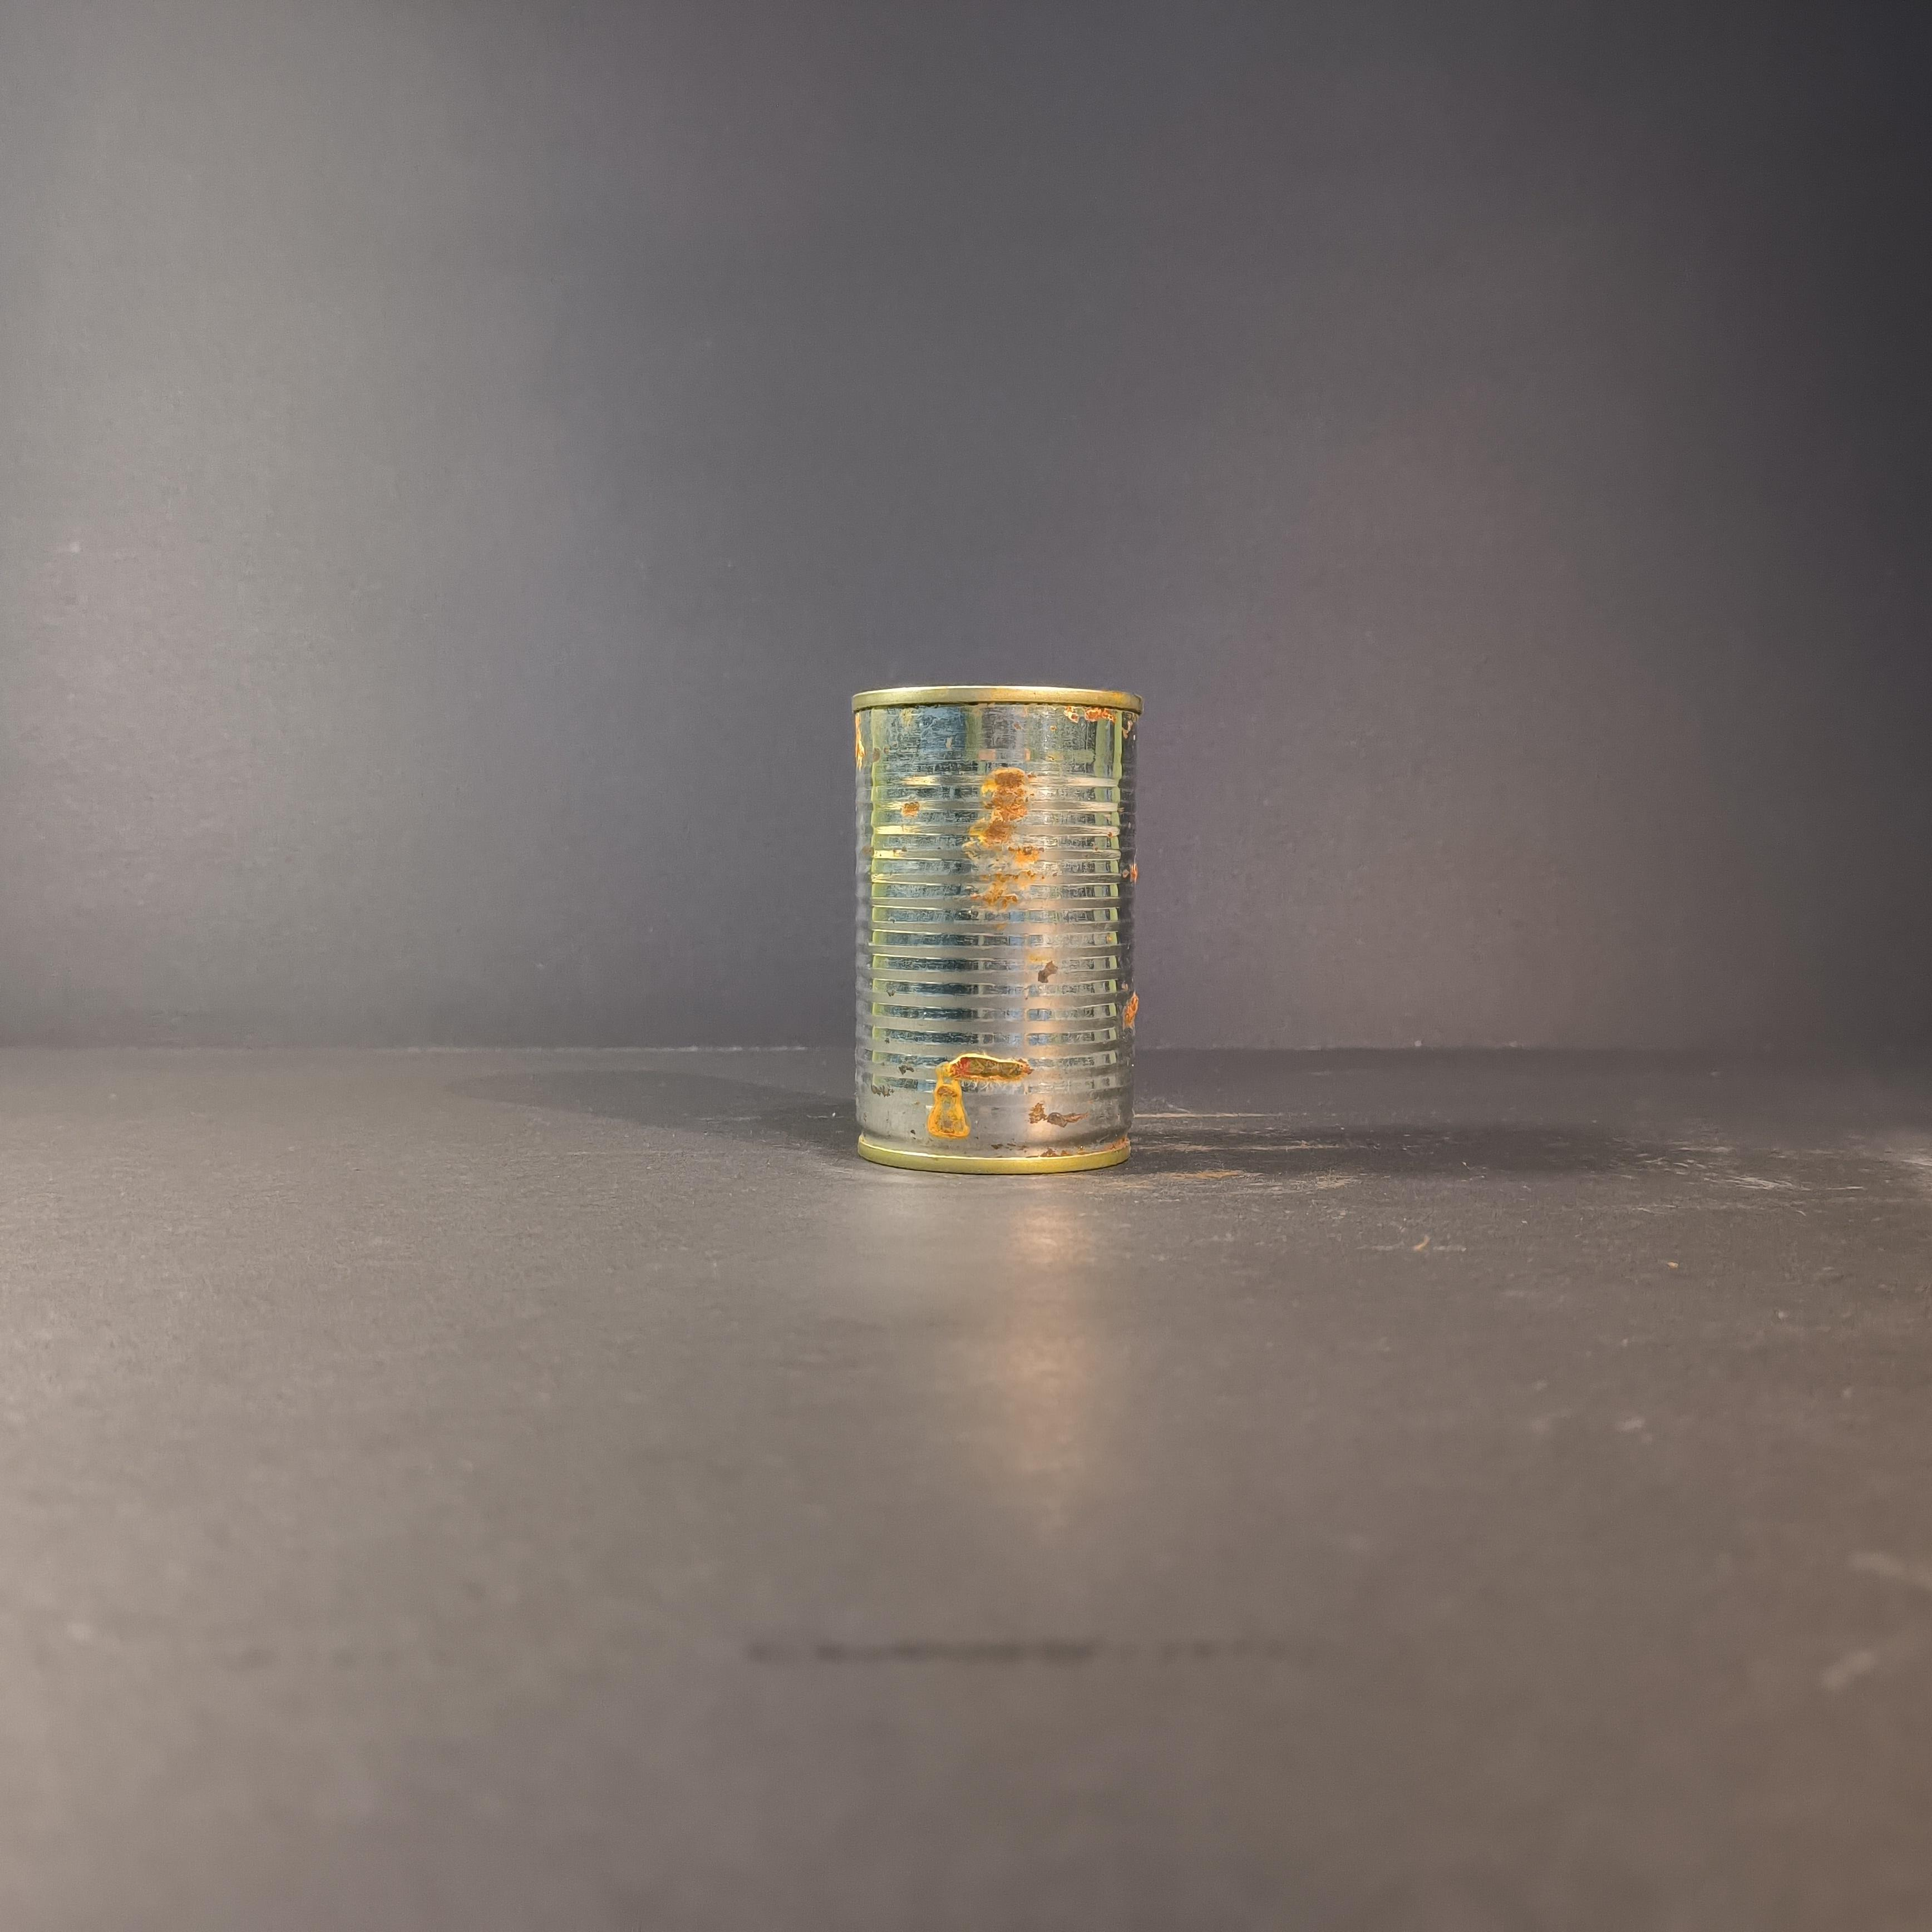Rusted: (842, 655, 1155, 1162)
